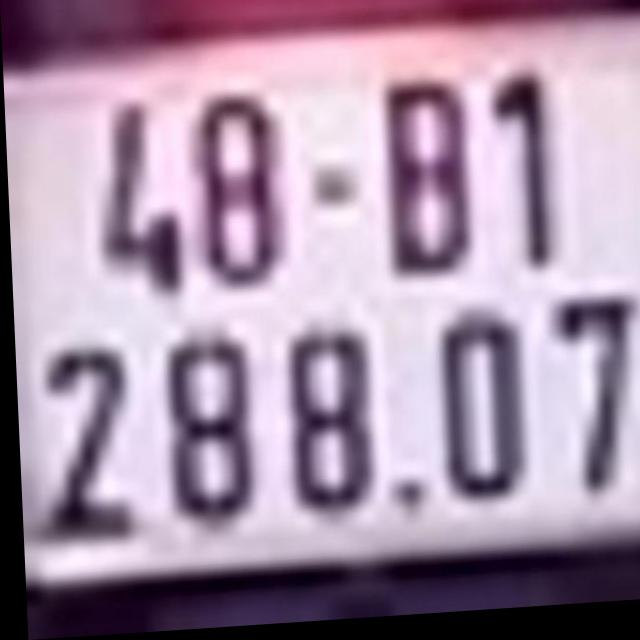0: (437, 306, 521, 505)
1: (486, 73, 551, 276)
2: (41, 341, 131, 543)
4: (98, 99, 182, 296)
7: (547, 294, 631, 496)
8: (191, 92, 281, 294), (162, 335, 249, 527), (284, 327, 369, 514)
B: (379, 81, 471, 284)
